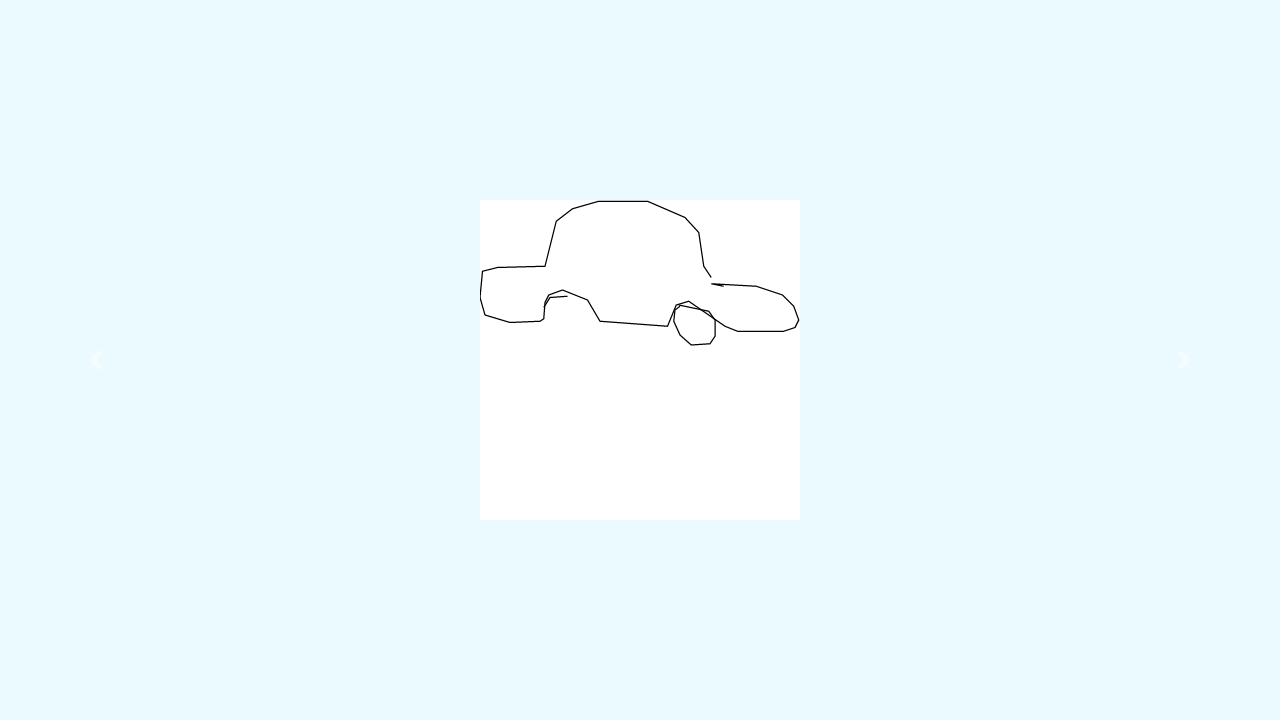car: (474, 196, 803, 354)
